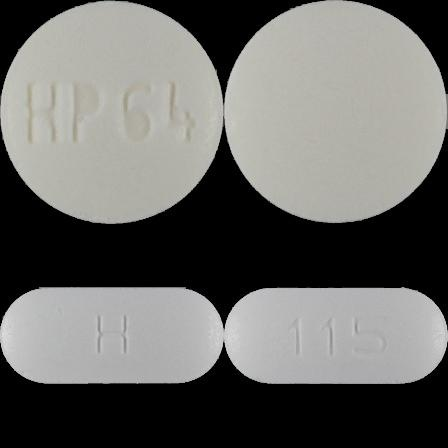68788-9372: (0, 0, 224, 224)
